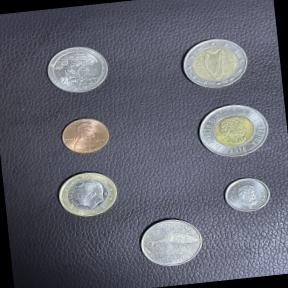coin: (192, 96, 278, 164), (175, 32, 257, 96), (132, 209, 212, 274), (39, 40, 115, 100), (51, 166, 126, 224), (217, 170, 278, 218), (56, 112, 117, 160)
